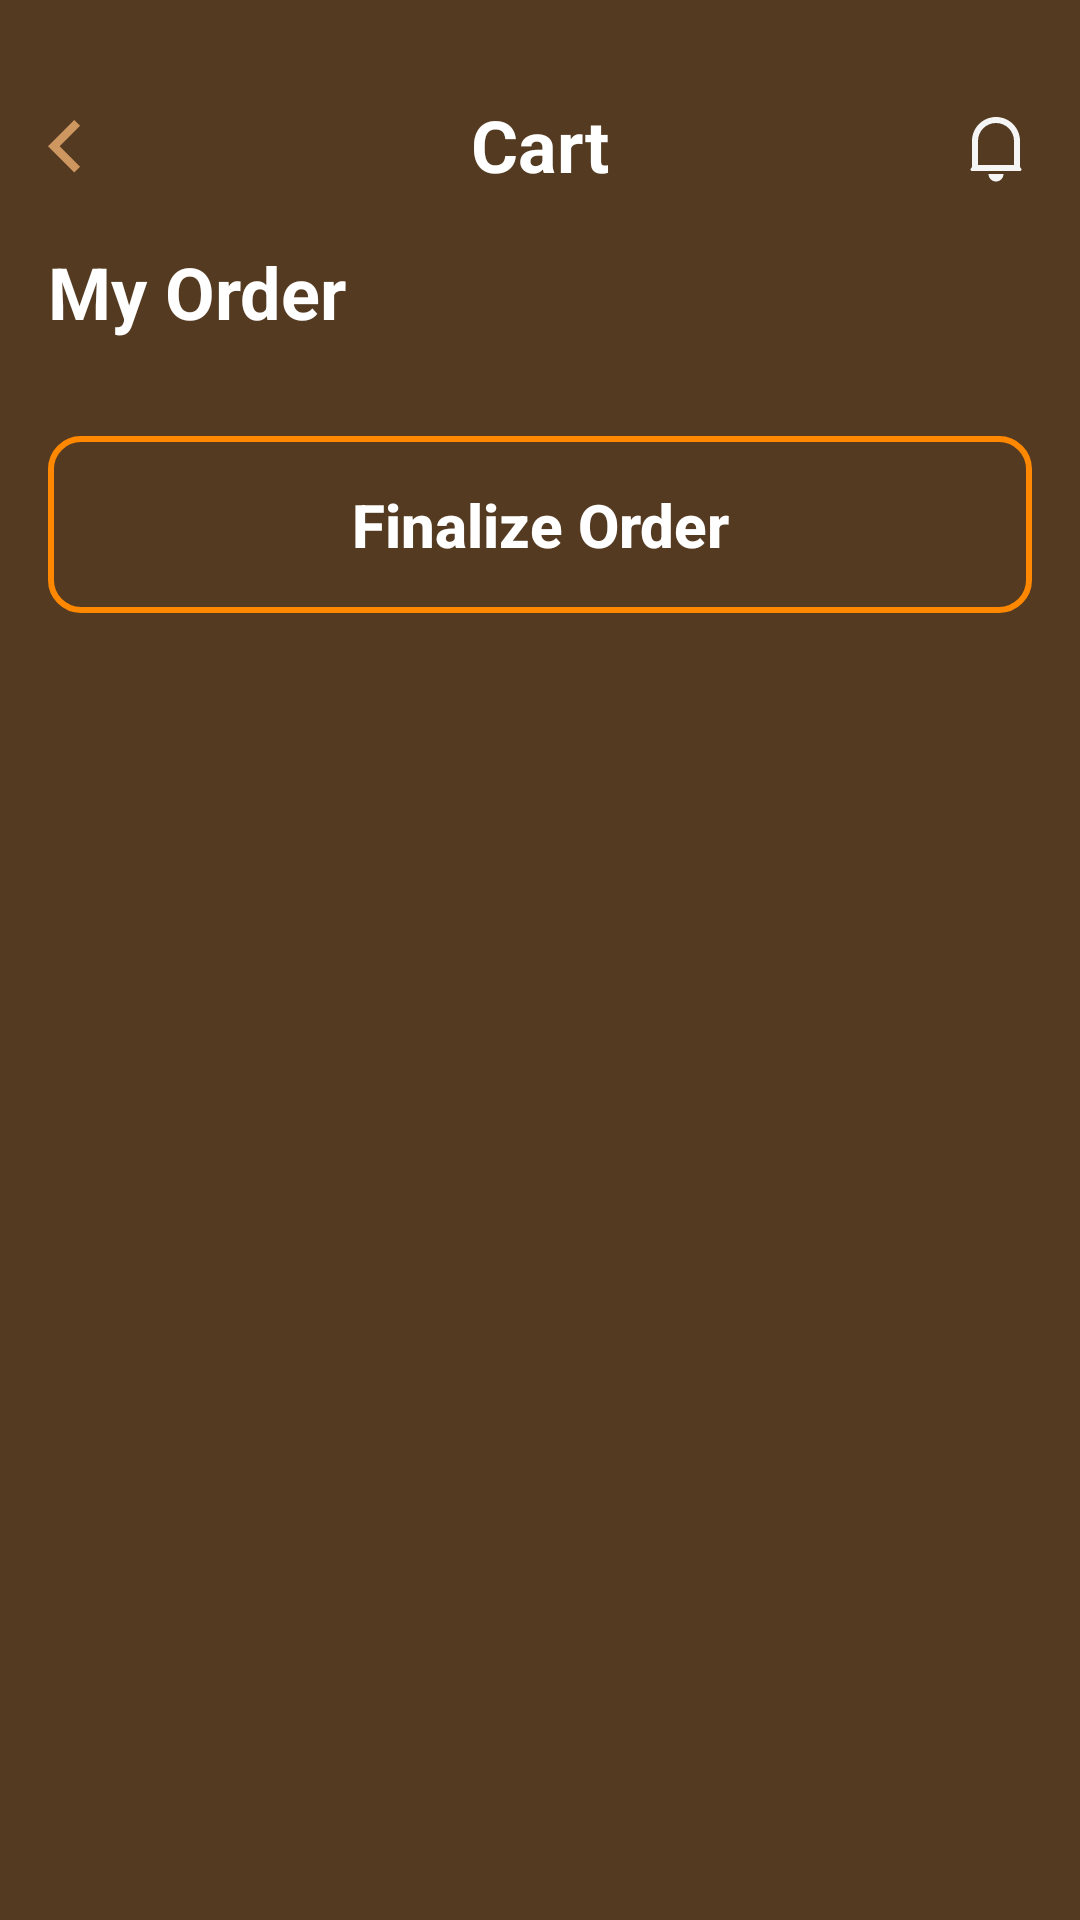

Point at icon controls on the screen. Image size 1080 × 1920, points as (x,y).
arrow back: (64,146)
notification: (996,149)
